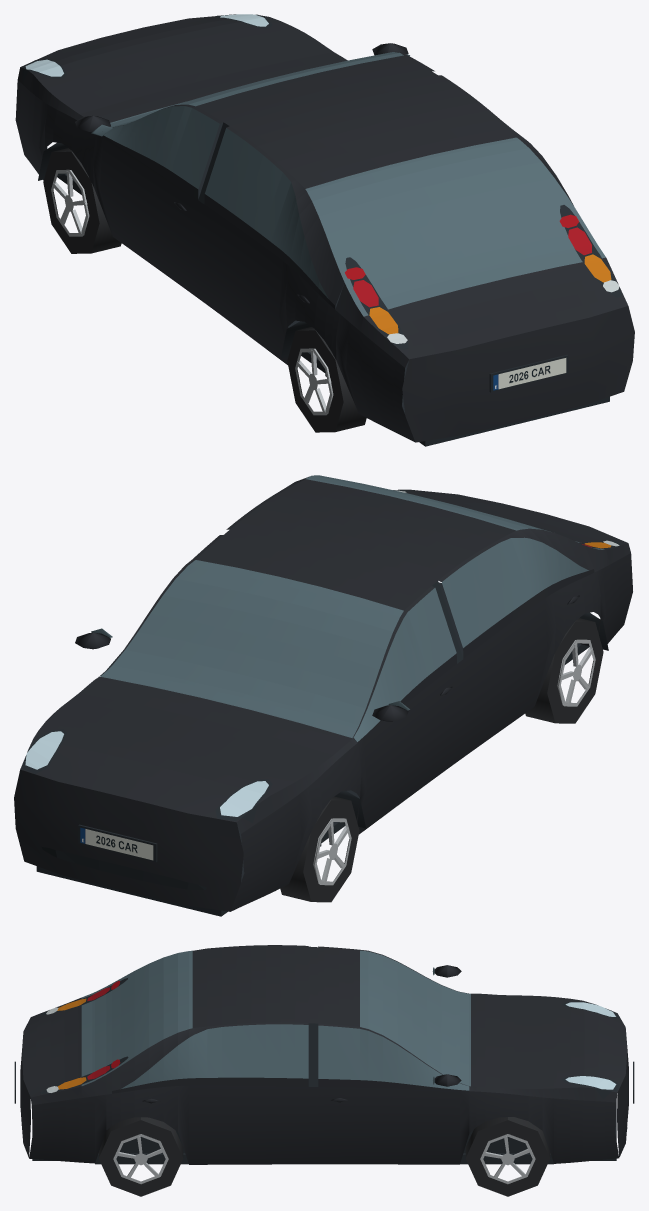
The model's file is Entrega_9_LOD2.glb.
3 renders of one model, top to bottom at view 1: azimuth 30°, elevation 25°; view 2: azimuth 150°, elevation 25°; view 3: azimuth 270°, elevation 25°, orthographic. The views are drawn at different scales.
Parts seen in each view (by area): view 1: Body, Glass, Wheel_RL, Wheel_FL, Plates, BrakeLights, Headlights; view 2: Body, Glass, Wheel_FL, Wheel_RL, Headlights, Plates; view 3: Body, Glass, Wheel_RR, Wheel_FR, Headlights.
Boxes of the visible parts, bbox=[...] form: Body: bbox=[15, 14, 634, 446]; Glass: bbox=[91, 52, 605, 316]; Wheel_RL: bbox=[287, 327, 366, 432]; Wheel_FL: bbox=[43, 148, 121, 253]; Plates: bbox=[493, 358, 566, 390]; BrakeLights: bbox=[353, 227, 591, 307]; Headlights: bbox=[25, 14, 268, 76]; Body: bbox=[14, 476, 632, 916]; Glass: bbox=[91, 475, 604, 741]; Wheel_FL: bbox=[280, 796, 359, 902]; Wheel_RL: bbox=[525, 618, 603, 723]; Headlights: bbox=[25, 731, 268, 816]; Plates: bbox=[80, 827, 153, 860]; Body: bbox=[14, 945, 634, 1164]; Glass: bbox=[81, 950, 470, 1090]; Wheel_RR: bbox=[98, 1117, 183, 1196]; Wheel_FR: bbox=[465, 1117, 550, 1196]; Headlights: bbox=[565, 1002, 616, 1089].
Size of the model in its own units: 2.26 by 1.46 by 4.91.
10 materials, 1 textured.
